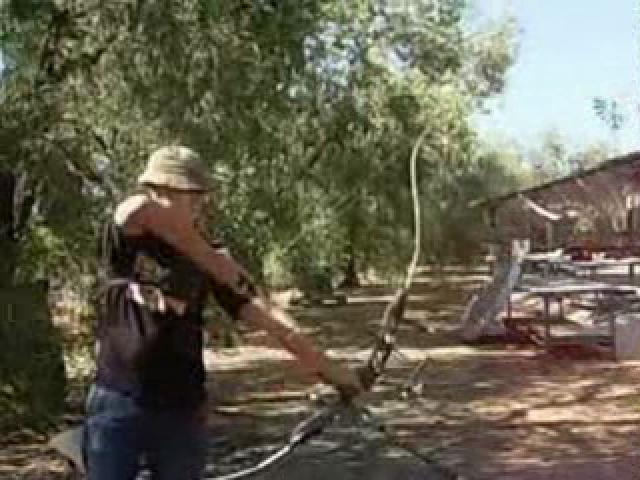I: (53, 135, 385, 480)
